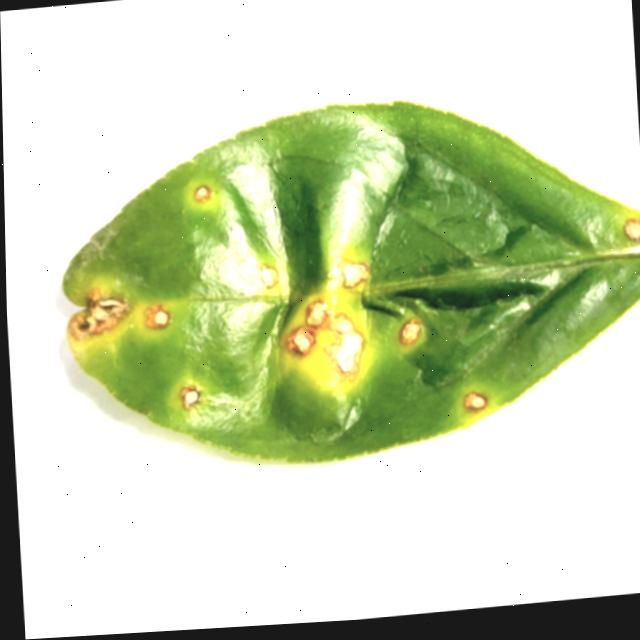antracnose: (63, 102, 640, 463), (306, 301, 364, 379), (68, 290, 127, 340), (339, 260, 368, 287), (288, 326, 314, 354), (145, 305, 170, 329), (401, 319, 421, 345), (259, 264, 278, 289), (464, 392, 487, 410), (181, 387, 199, 409), (624, 219, 640, 241), (194, 185, 212, 202)
